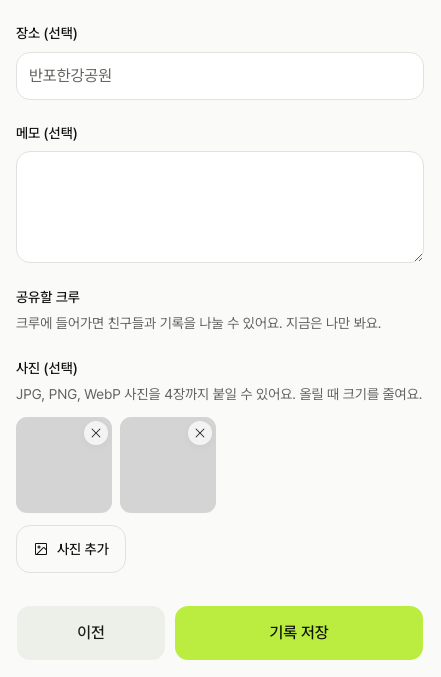
Test: WorkoutForm 사진 › 기록은 저장됐는데 사진 일부가 실패하면 머물고, 다시 저장하면 그 기록을 고치며 남은 사진만 올린다
Earlier steps of the test are not shown.
Later steps or results of the test are not shown.
(page scrolled)
Click the button "기록 저장".
click(299, 633)  # box [174,605,424,661]
(page scrolled)
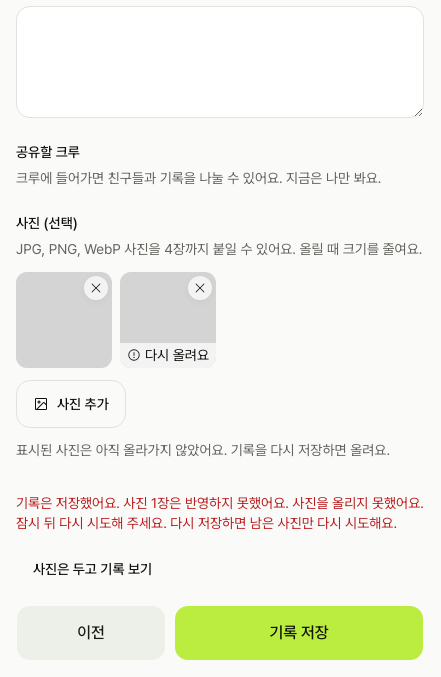
Now the text "기록은 저장했어요. 사진 1장은 반영하지 못했어요." is shown, box [16,495,424,531]
